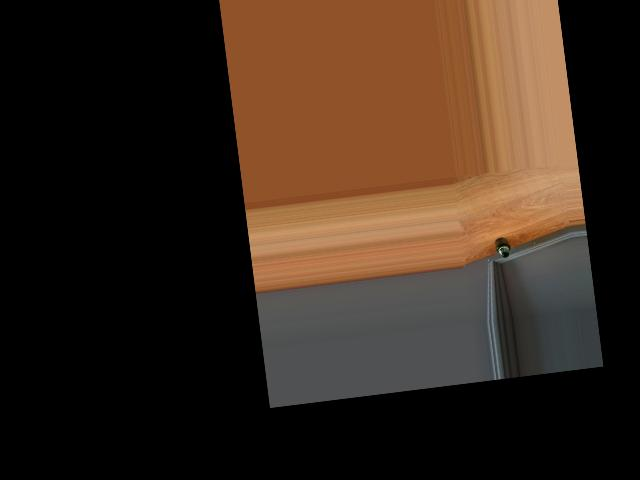beer: (494, 236, 511, 258)
